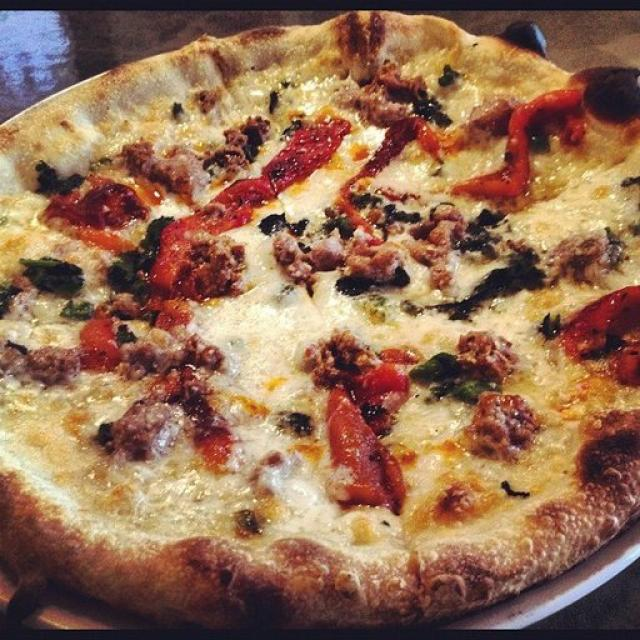Basil: (441, 256, 547, 316), (115, 214, 172, 298), (423, 358, 501, 395), (20, 256, 83, 298), (461, 211, 501, 258), (37, 161, 88, 195), (415, 94, 456, 125), (536, 313, 558, 342), (66, 300, 92, 316), (440, 66, 459, 86), (117, 324, 140, 340), (140, 312, 160, 326)
Beef: (293, 330, 382, 382), (476, 394, 536, 451), (416, 206, 454, 289), (114, 404, 177, 452), (128, 142, 196, 186), (209, 118, 261, 170), (551, 235, 602, 283), (272, 235, 336, 272), (135, 342, 219, 368), (363, 88, 416, 120), (30, 348, 76, 384), (460, 334, 507, 366), (350, 253, 394, 274)
Pizza: (0, 12, 640, 629)
Tomato: (466, 93, 580, 198), (328, 391, 401, 505), (570, 290, 640, 378), (272, 122, 357, 184), (48, 193, 140, 250), (205, 184, 272, 227), (161, 211, 190, 287), (83, 317, 119, 368), (390, 120, 435, 155)
